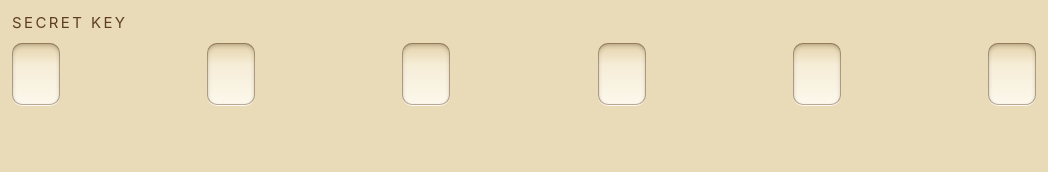
Test case: KeyInput › fills every box from a paste
This screenshot has width=1048, height=172.
Click the field named "Secret key character 1" at (36, 74), box [12,42,60,104]
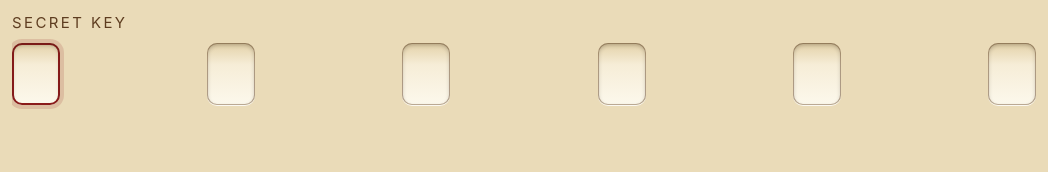
Type keys "r3-04 kx"
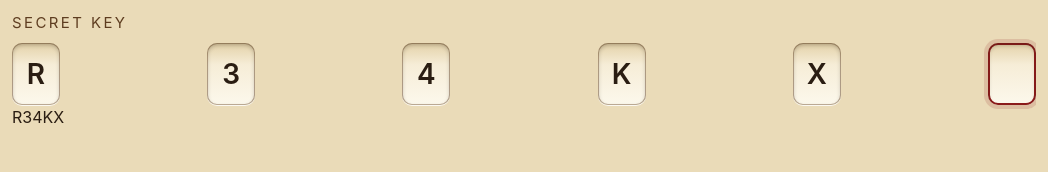
Expected: the text with test id "value" reads "R34KX", [12,106,64,126]
